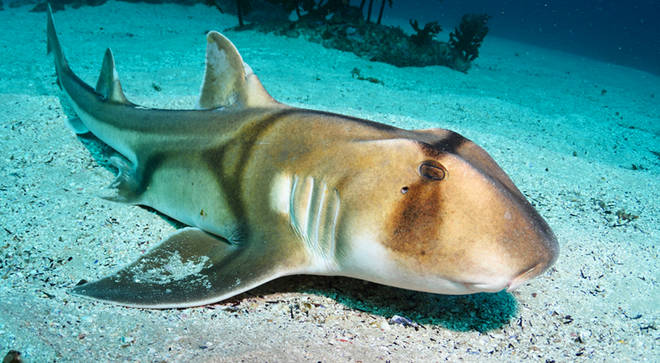shark: (34, 3, 566, 308)
